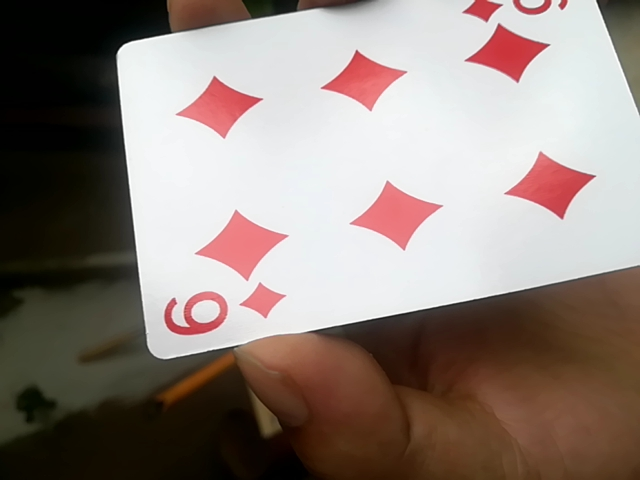fk 6: (105, 2, 640, 366)
